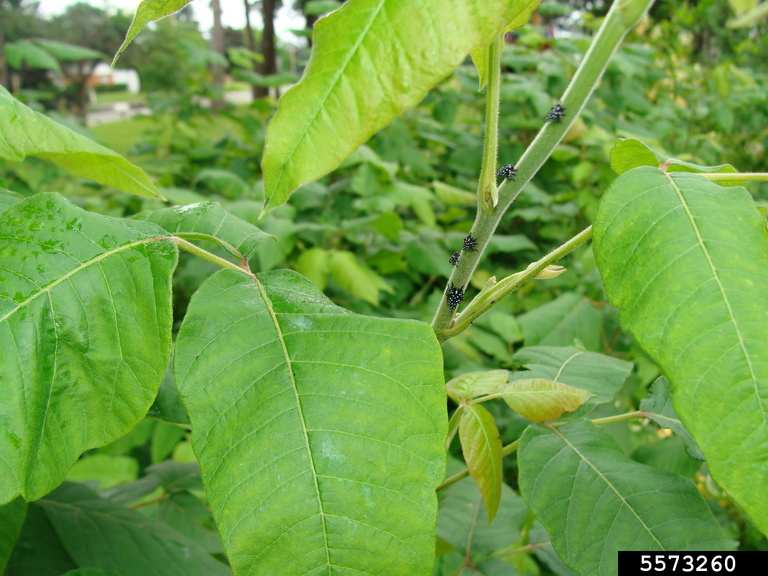instar nymph (1-3): (446, 280, 465, 312), (544, 103, 564, 122), (497, 163, 517, 180), (462, 234, 478, 252), (449, 250, 458, 267)
